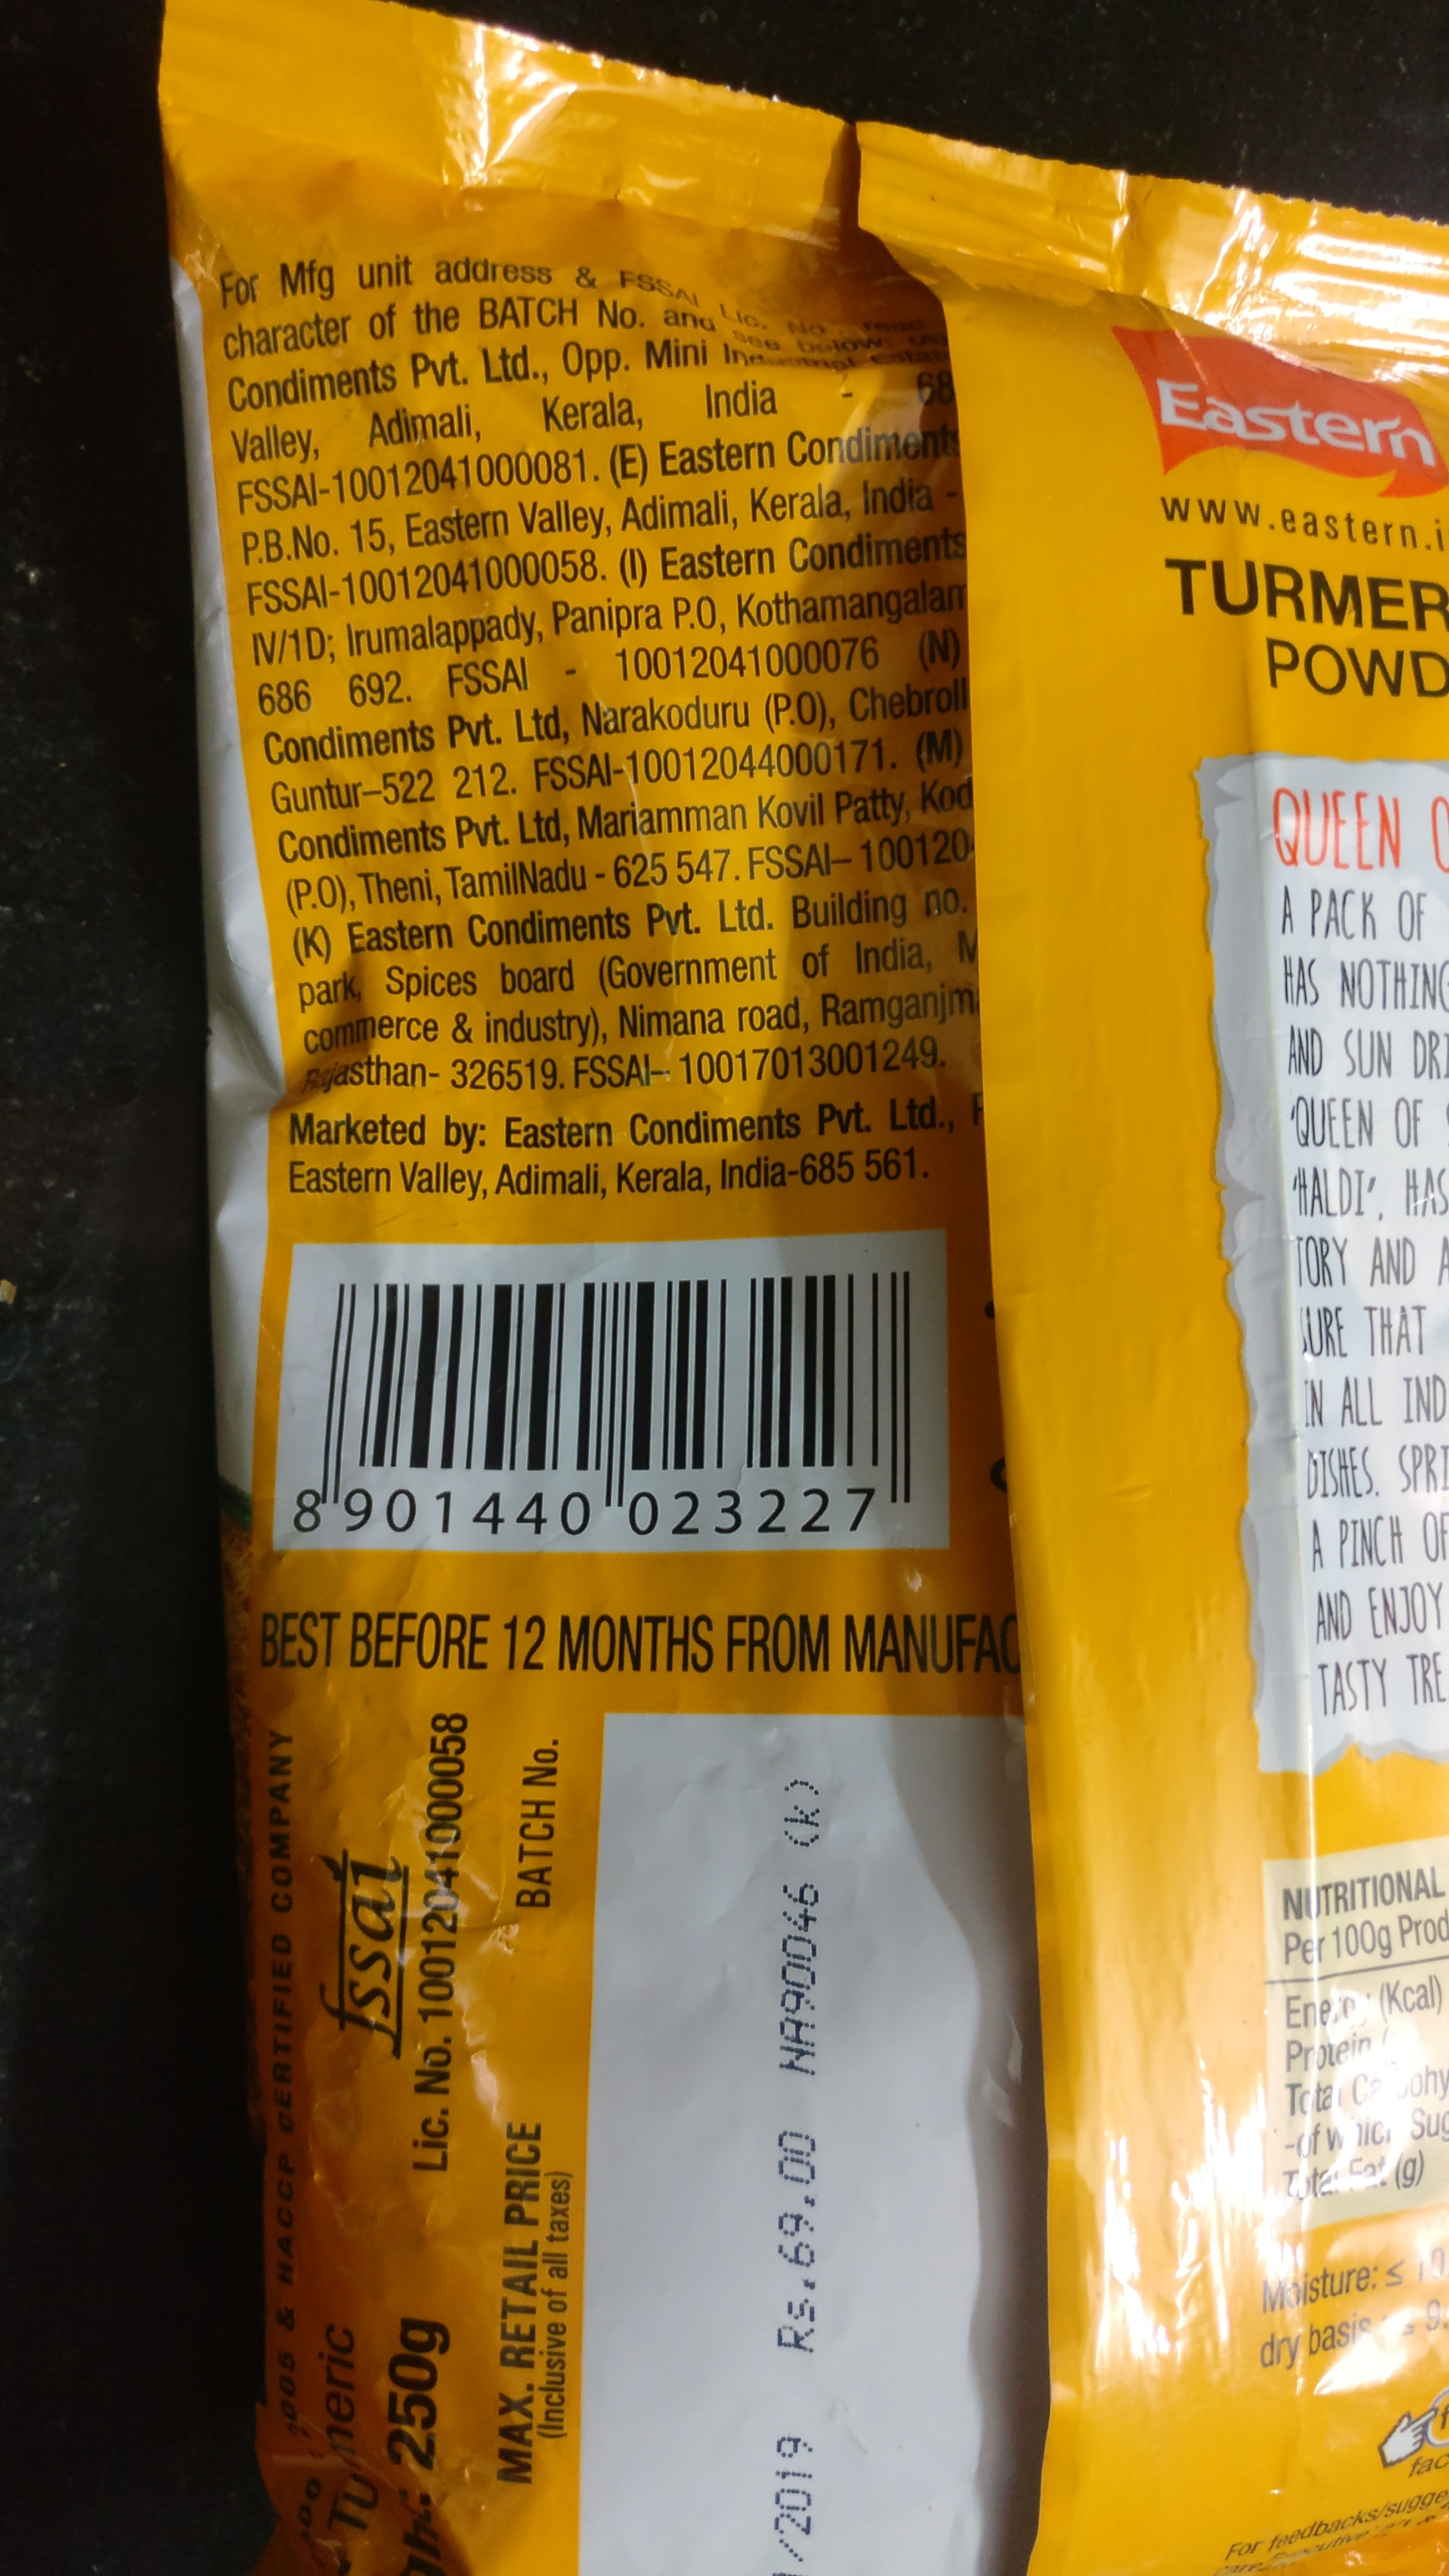barcode: (272, 1235, 943, 1568)
